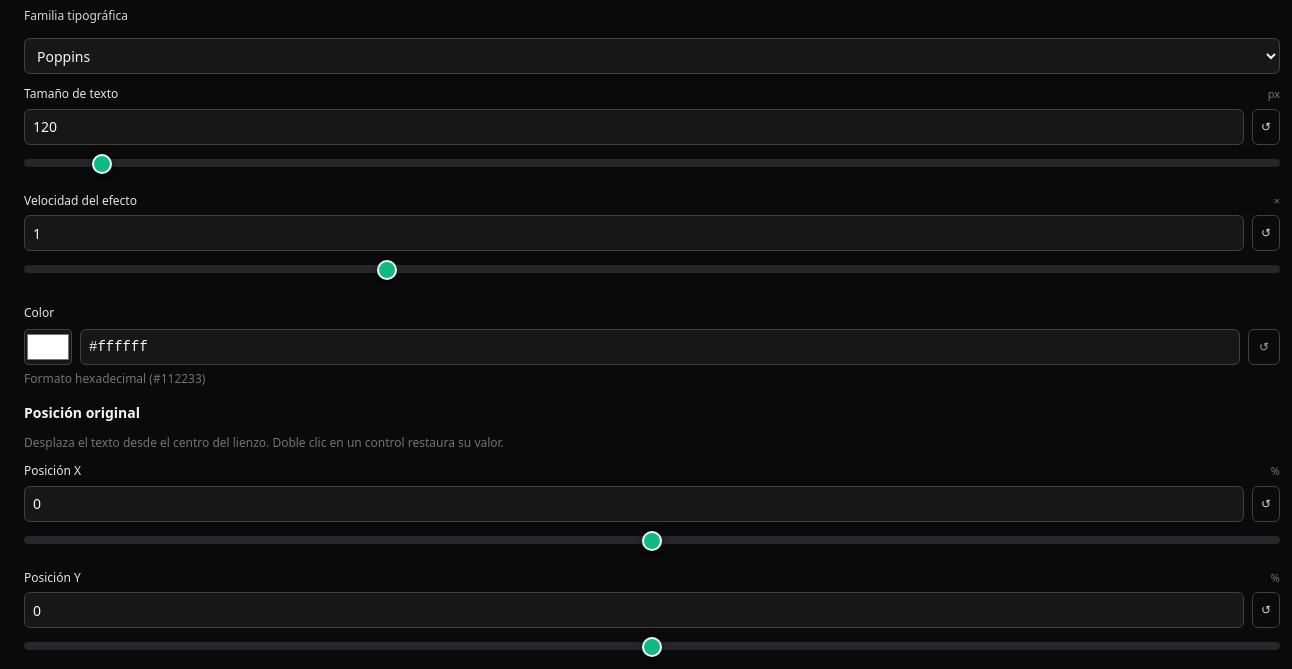
Test case: cambiar velocidad por slider no ajusta duración automáticamente
(page scrolled)
Set the slider named "Velocidad del efecto deslizador" to "0.5" at (165, 269), box [24,257,1280,281]
(page scrolled)
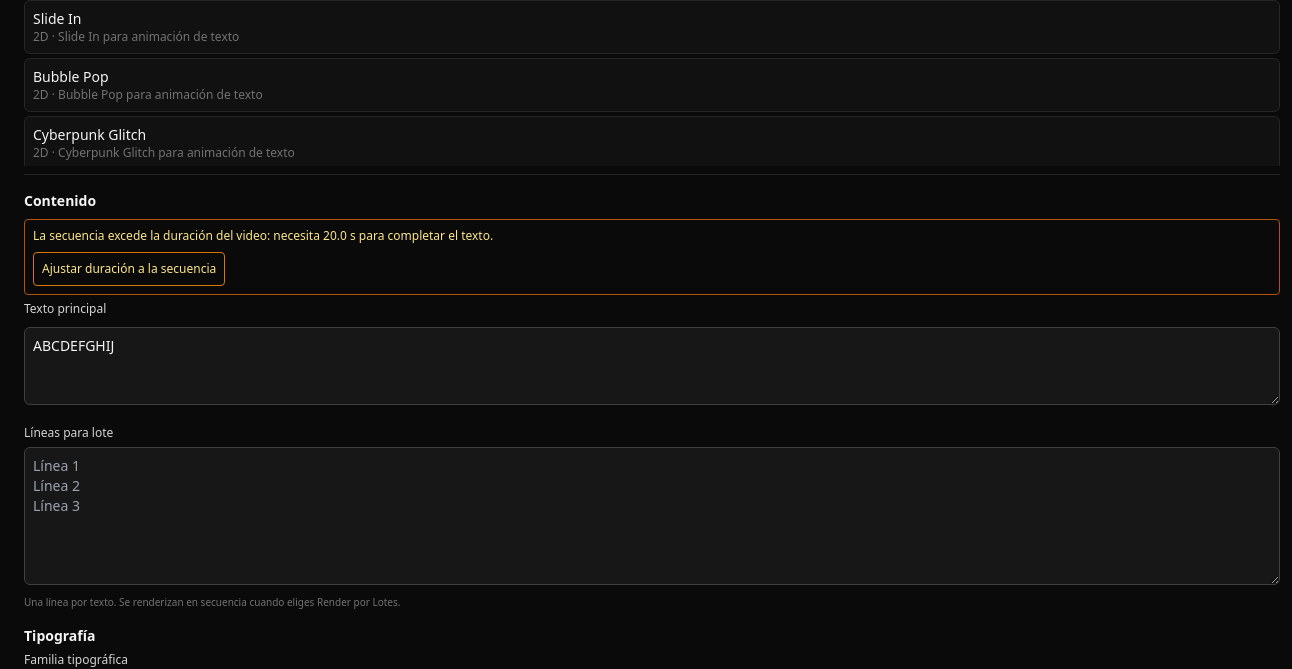
Check: the text "secuencia excede" is shown, box [33,227,323,244]
Click the button "Ajustar duración a la secuencia" at (129, 269), box [33,252,225,286]
(page scrolled)
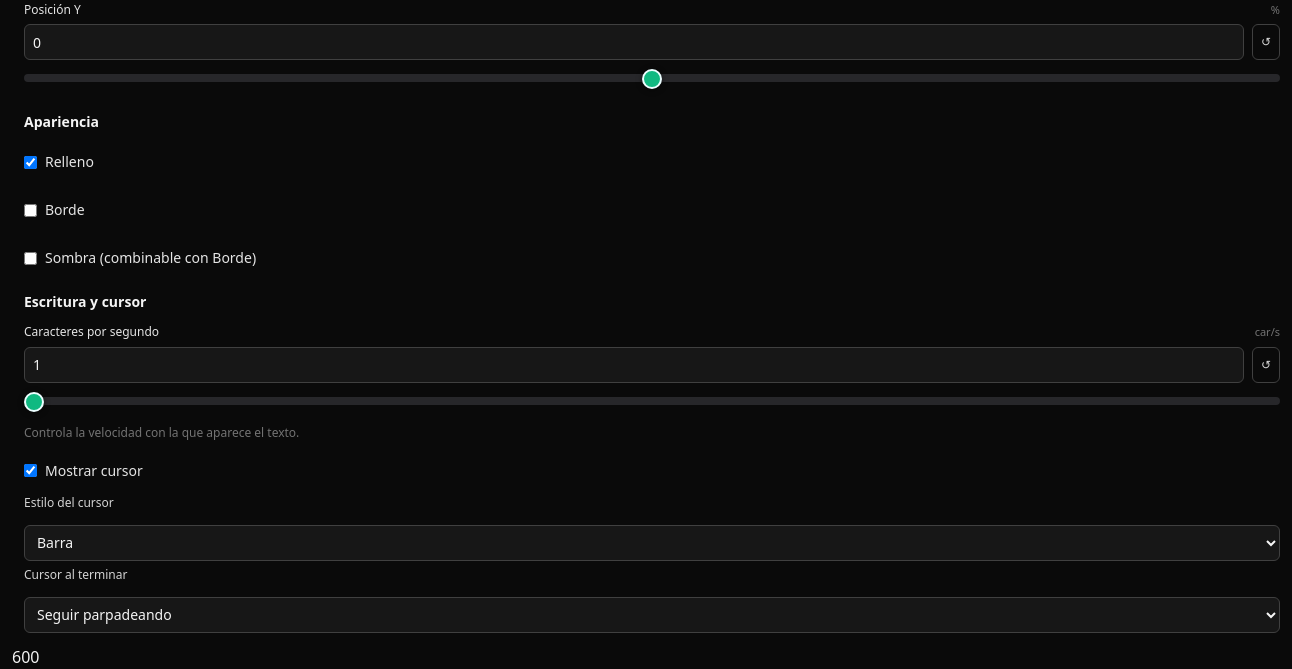
Check: the text with test id "frames" reads "600", box [12,646,40,668]
